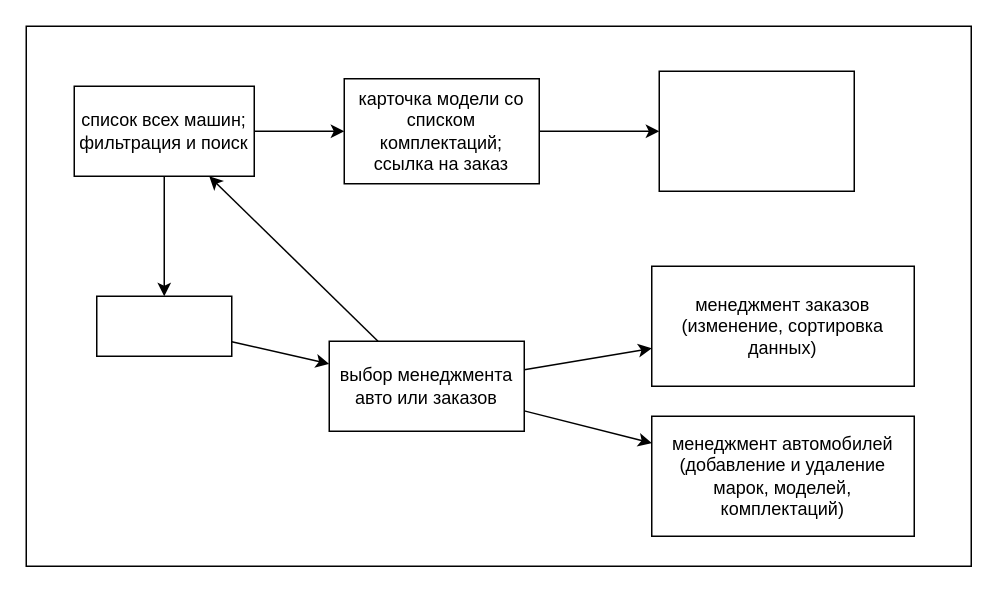
The diagram is 998 pixels wide and 593 high, and some of its shapes have lost their labels. Each missing label, with the centre of its shape:
"авторизация менеджера" belongs at point (163, 325).
"заказ авто; указание комплектации, модели, контактных данных" belongs at point (756, 130).
